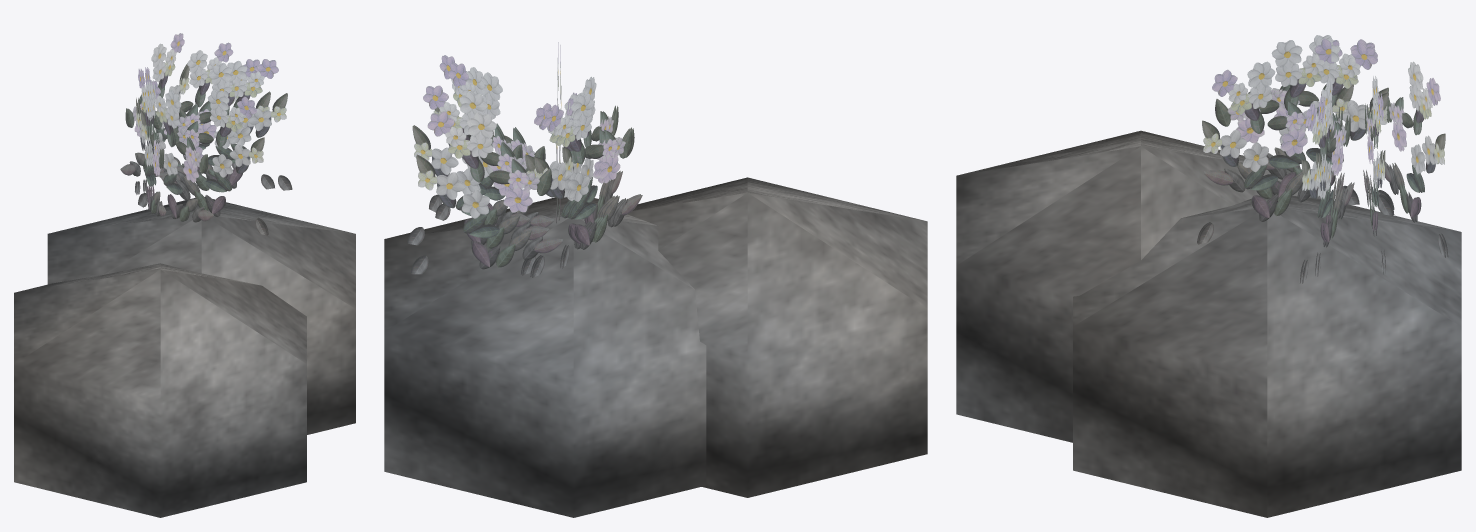
The model's file is cushion_bloom_l1.gltf.
3 renders of one model, left to right at view 1: azimuth 30°, elevation 25°; view 2: azimuth 150°, elevation 25°; view 3: azimuth 270°, elevation 25°, orthographic. The views are drawn at different scales.
Visible parts, largest first — view 1: cushion_bloom_l1; view 2: cushion_bloom_l1; view 3: cushion_bloom_l1.
Boxes of the visible parts, x1,y1,x2,y2 form: cushion_bloom_l1: [14, 33, 355, 517]; cushion_bloom_l1: [384, 42, 927, 517]; cushion_bloom_l1: [956, 35, 1461, 517].
Size of the model in its own units: 0.8884 by 0.7805 by 0.7867.
Materials: 1 (1 with a texture image).
